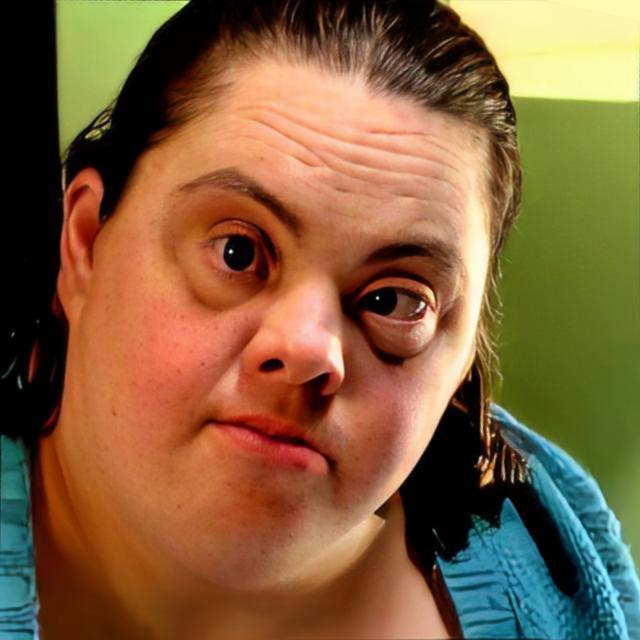surprise: (103, 23, 494, 591)
